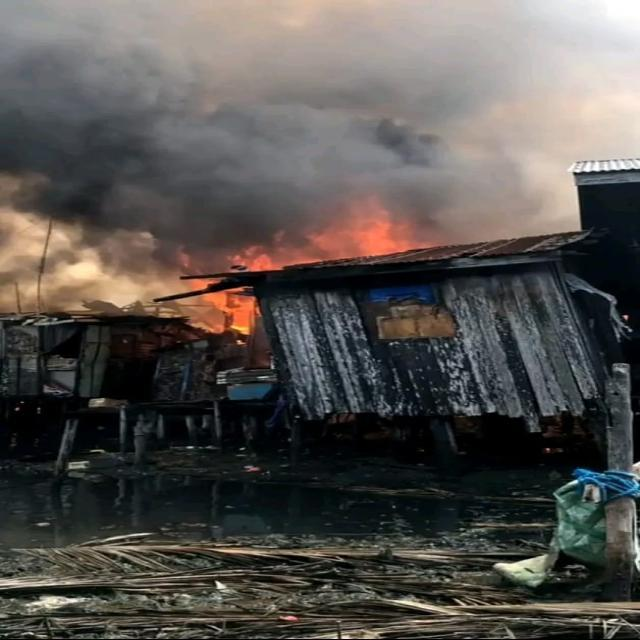Fire: (229, 200, 433, 249), (196, 294, 260, 338)
Smoke: (2, 2, 640, 160), (5, 164, 566, 223), (18, 195, 191, 298)
